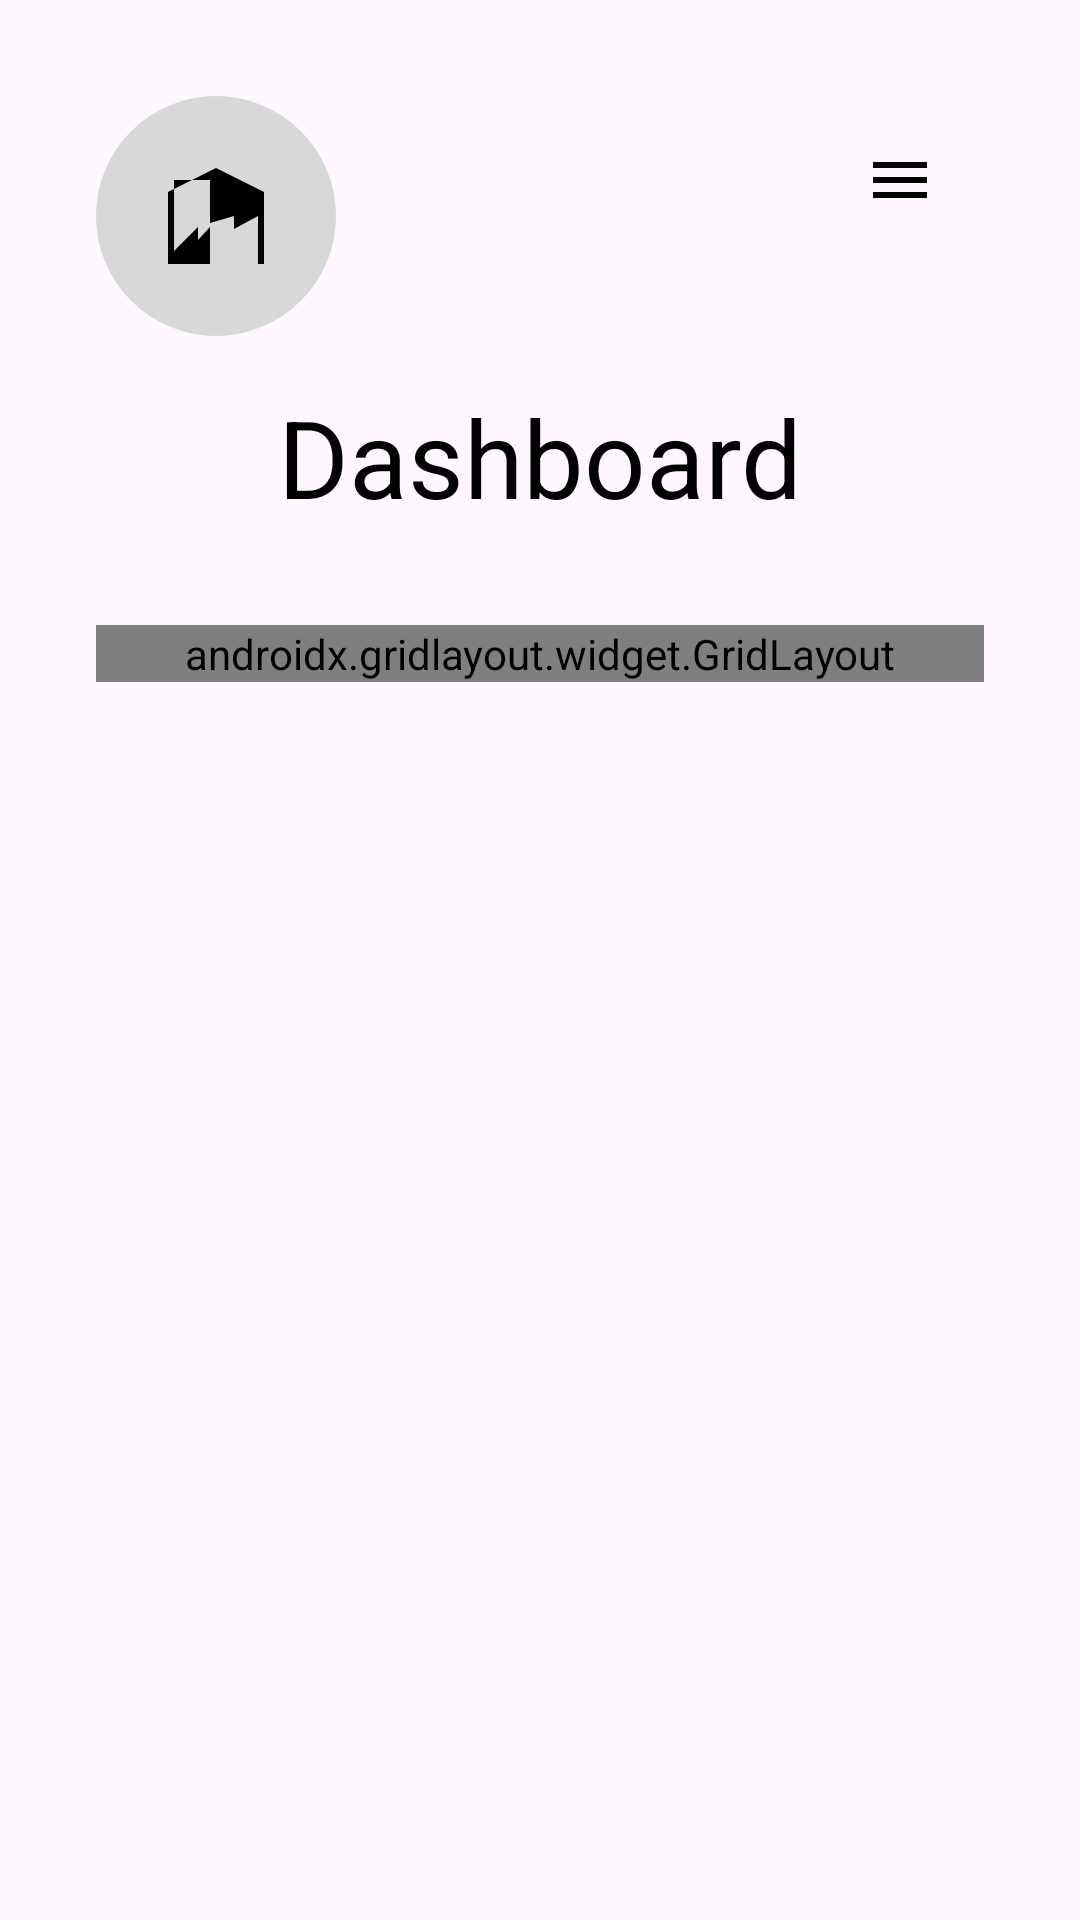

Where to tap for icons on this 1080px x 1920px app screen, as (x=x, y=y):
Menu: (x=900, y=180)
